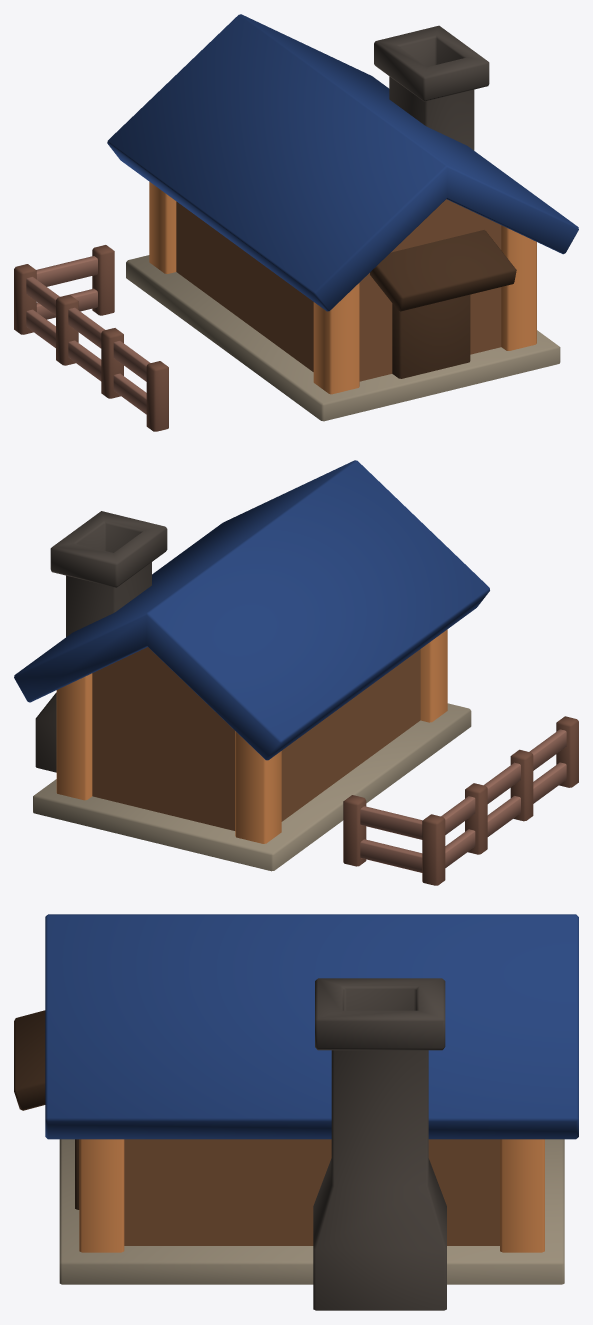
File: House-S.fbx
3 views of the same model, one above another, from view 1: azimuth 30°, elevation 25°; view 2: azimuth 150°, elevation 25°; view 3: azimuth 270°, elevation 25° (orthographic). The views are drawn at different scales.
Visible parts, largest first — view 1: Cube.1063, Cube.1062, Cube.1064, Cube.1065, Cube.1072, Cube.1066, Cube.1067, Cube.1071, Cube.1069, Cube.1068, Cube.1070; view 2: Cube.1063, Cube.1062, Cube.1064, Cube.1065, Cube.1072, Cube.1071, Cube.1069, Cube.1068, Cube.1070; view 3: Cube.1063, Cube.1072, Cube.1062, Cube.1064, Cube.1065, Cube.1066.
Part boxes in pixels (<box>): Cube.1063: <box>107,14,578,311</box>; Cube.1062: <box>176,199,501,381</box>; Cube.1064: <box>126,255,560,421</box>; Cube.1065: <box>149,182,536,394</box>; Cube.1072: <box>374,25,489,150</box>; Cube.1066: <box>370,230,516,311</box>; Cube.1067: <box>392,294,470,378</box>; Cube.1071: <box>26,277,150,414</box>; Cube.1069: <box>56,294,168,431</box>; Cube.1068: <box>14,245,114,334</box>; Cube.1070: <box>36,256,97,319</box>; Cube.1063: <box>14,460,489,760</box>; Cube.1062: <box>92,647,420,830</box>; Cube.1064: <box>33,703,471,871</box>; Cube.1065: <box>56,629,447,843</box>; Cube.1072: <box>35,511,167,772</box>; Cube.1071: <box>441,729,566,867</box>; Cube.1069: <box>465,716,578,854</box>; Cube.1068: <box>343,795,445,885</box>; Cube.1070: <box>360,806,422,872</box>; Cube.1063: <box>45,914,578,1139</box>; Cube.1072: <box>313,978,446,1310</box>; Cube.1062: <box>124,1139,499,1245</box>; Cube.1064: <box>59,1139,564,1284</box>; Cube.1065: <box>79,1139,544,1252</box>; Cube.1066: <box>14,1010,45,1110</box>.
Size of the model in its own units: 156 by 81.63 by 142.
